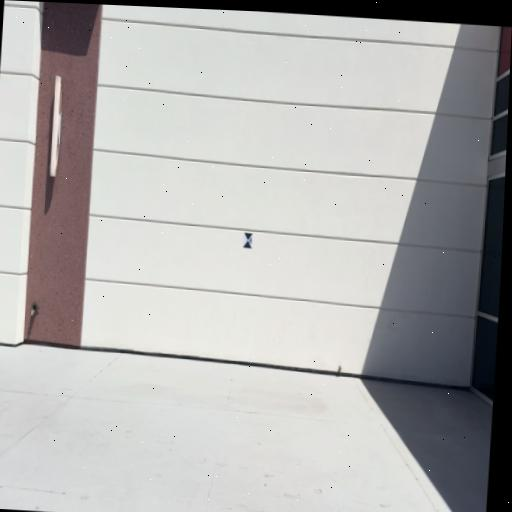target4: (243, 232, 254, 249)
